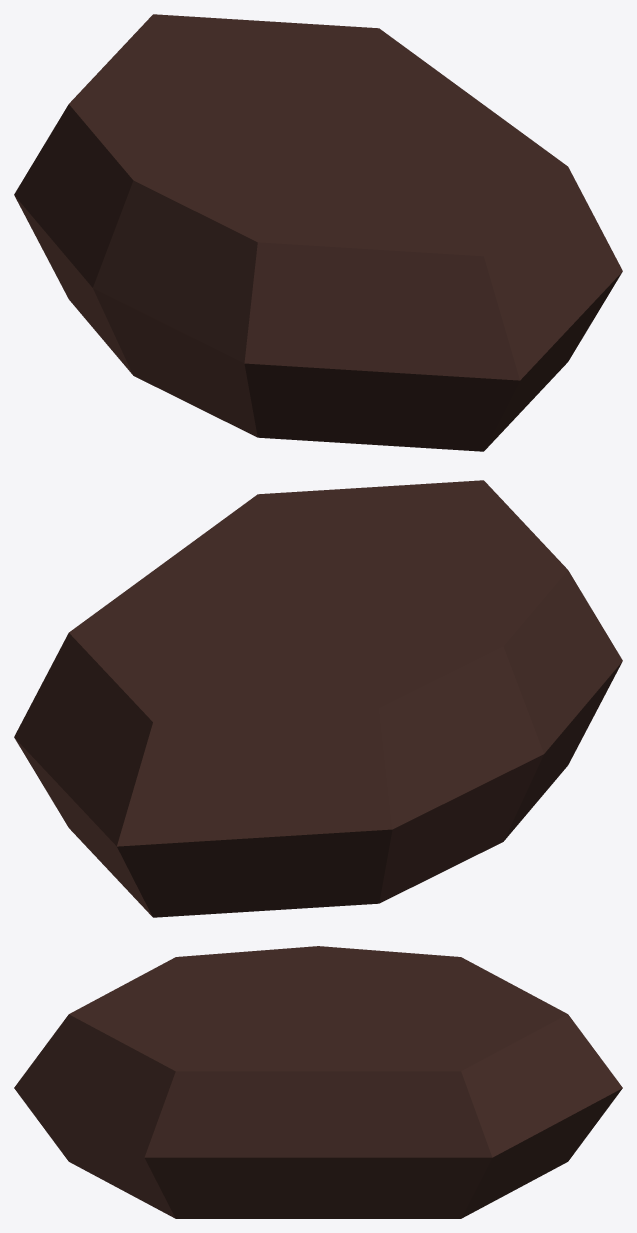
The model's file is mussel.obj.
The picture shows the model from 3 angles, top to bottom: view 1: azimuth 30°, elevation 25°; view 2: azimuth 150°, elevation 25°; view 3: azimuth 270°, elevation 25°; orthographic projection. The views are drawn at different scales.
Parts seen in each view (by area): view 1: mussel; view 2: mussel; view 3: mussel.
Part boxes in pixels (bbox=[...]): mussel: bbox=[14, 14, 622, 451]; mussel: bbox=[14, 480, 622, 917]; mussel: bbox=[14, 946, 622, 1218].
Bounding box in the file's own units: 0.0923 × 0.0415 × 0.1554.
